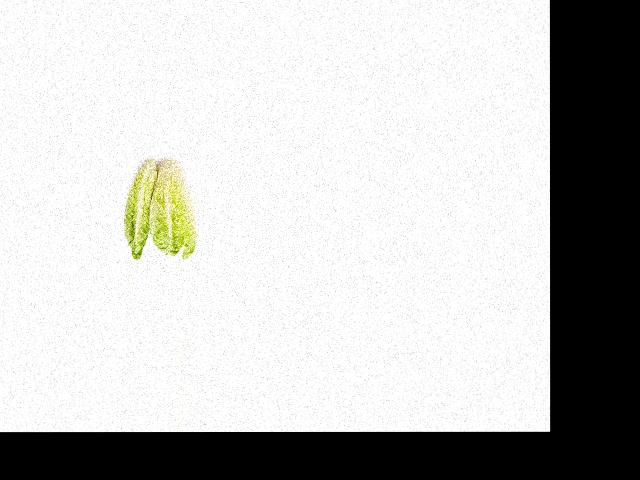lettuce: (113, 152, 159, 260)
